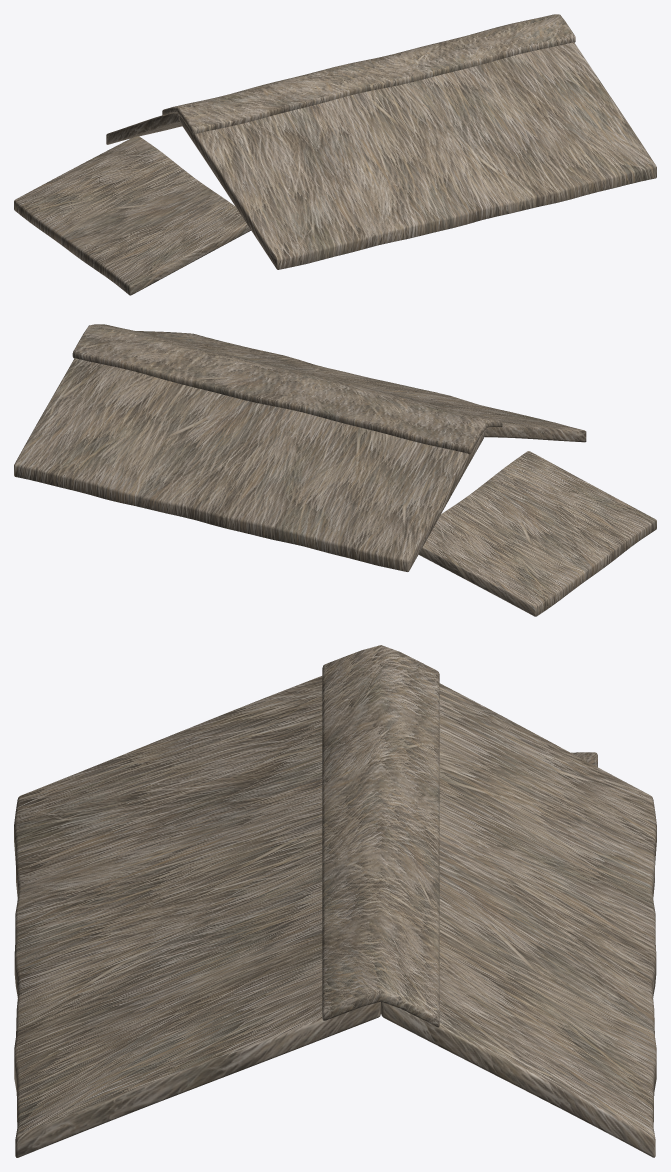
The model's file is BW_StableA03_Thatch.fbx.
The picture shows the model from 3 angles, top to bottom: view 1: azimuth 30°, elevation 25°; view 2: azimuth 150°, elevation 25°; view 3: azimuth 270°, elevation 25°; orthographic projection. The views are drawn at different scales.
Parts seen in each view (by area): view 1: BW_StableA03_Thatch; view 2: BW_StableA03_Thatch; view 3: BW_StableA03_Thatch.
Boxes of the visible parts, x1,y1,x2,y2 form: BW_StableA03_Thatch: (14, 14, 656, 295); BW_StableA03_Thatch: (14, 324, 656, 616); BW_StableA03_Thatch: (14, 645, 656, 1157).
Bounding box in the file's own units: 11.59 × 2.75 × 7.12.
